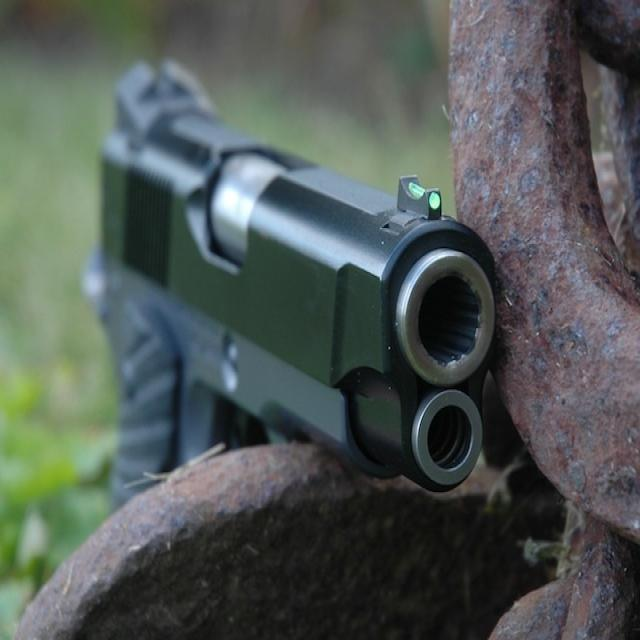gun: (82, 49, 503, 607)
